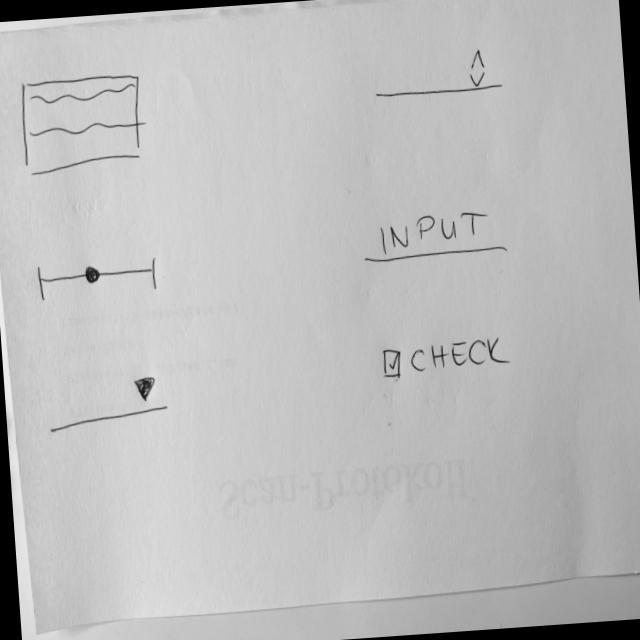checkbox: (380, 332, 514, 382)
input: (360, 204, 510, 265)
number-input: (370, 44, 505, 104)
select: (44, 371, 171, 435)
slider: (34, 253, 161, 303)
textarea: (16, 69, 146, 179)
